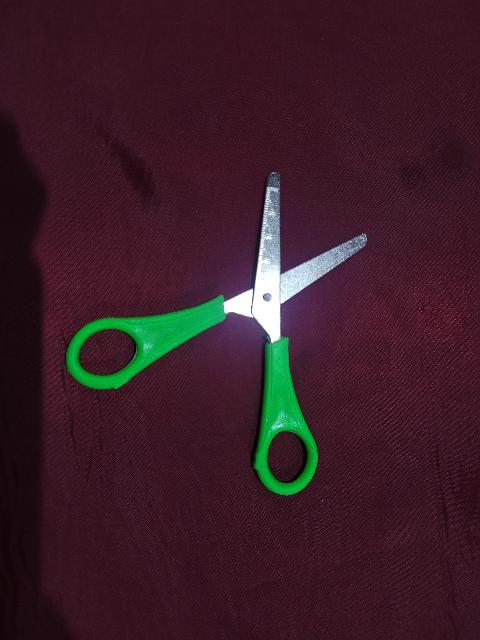Metal: (225, 171, 366, 335)
Plastik: (64, 308, 306, 497)
